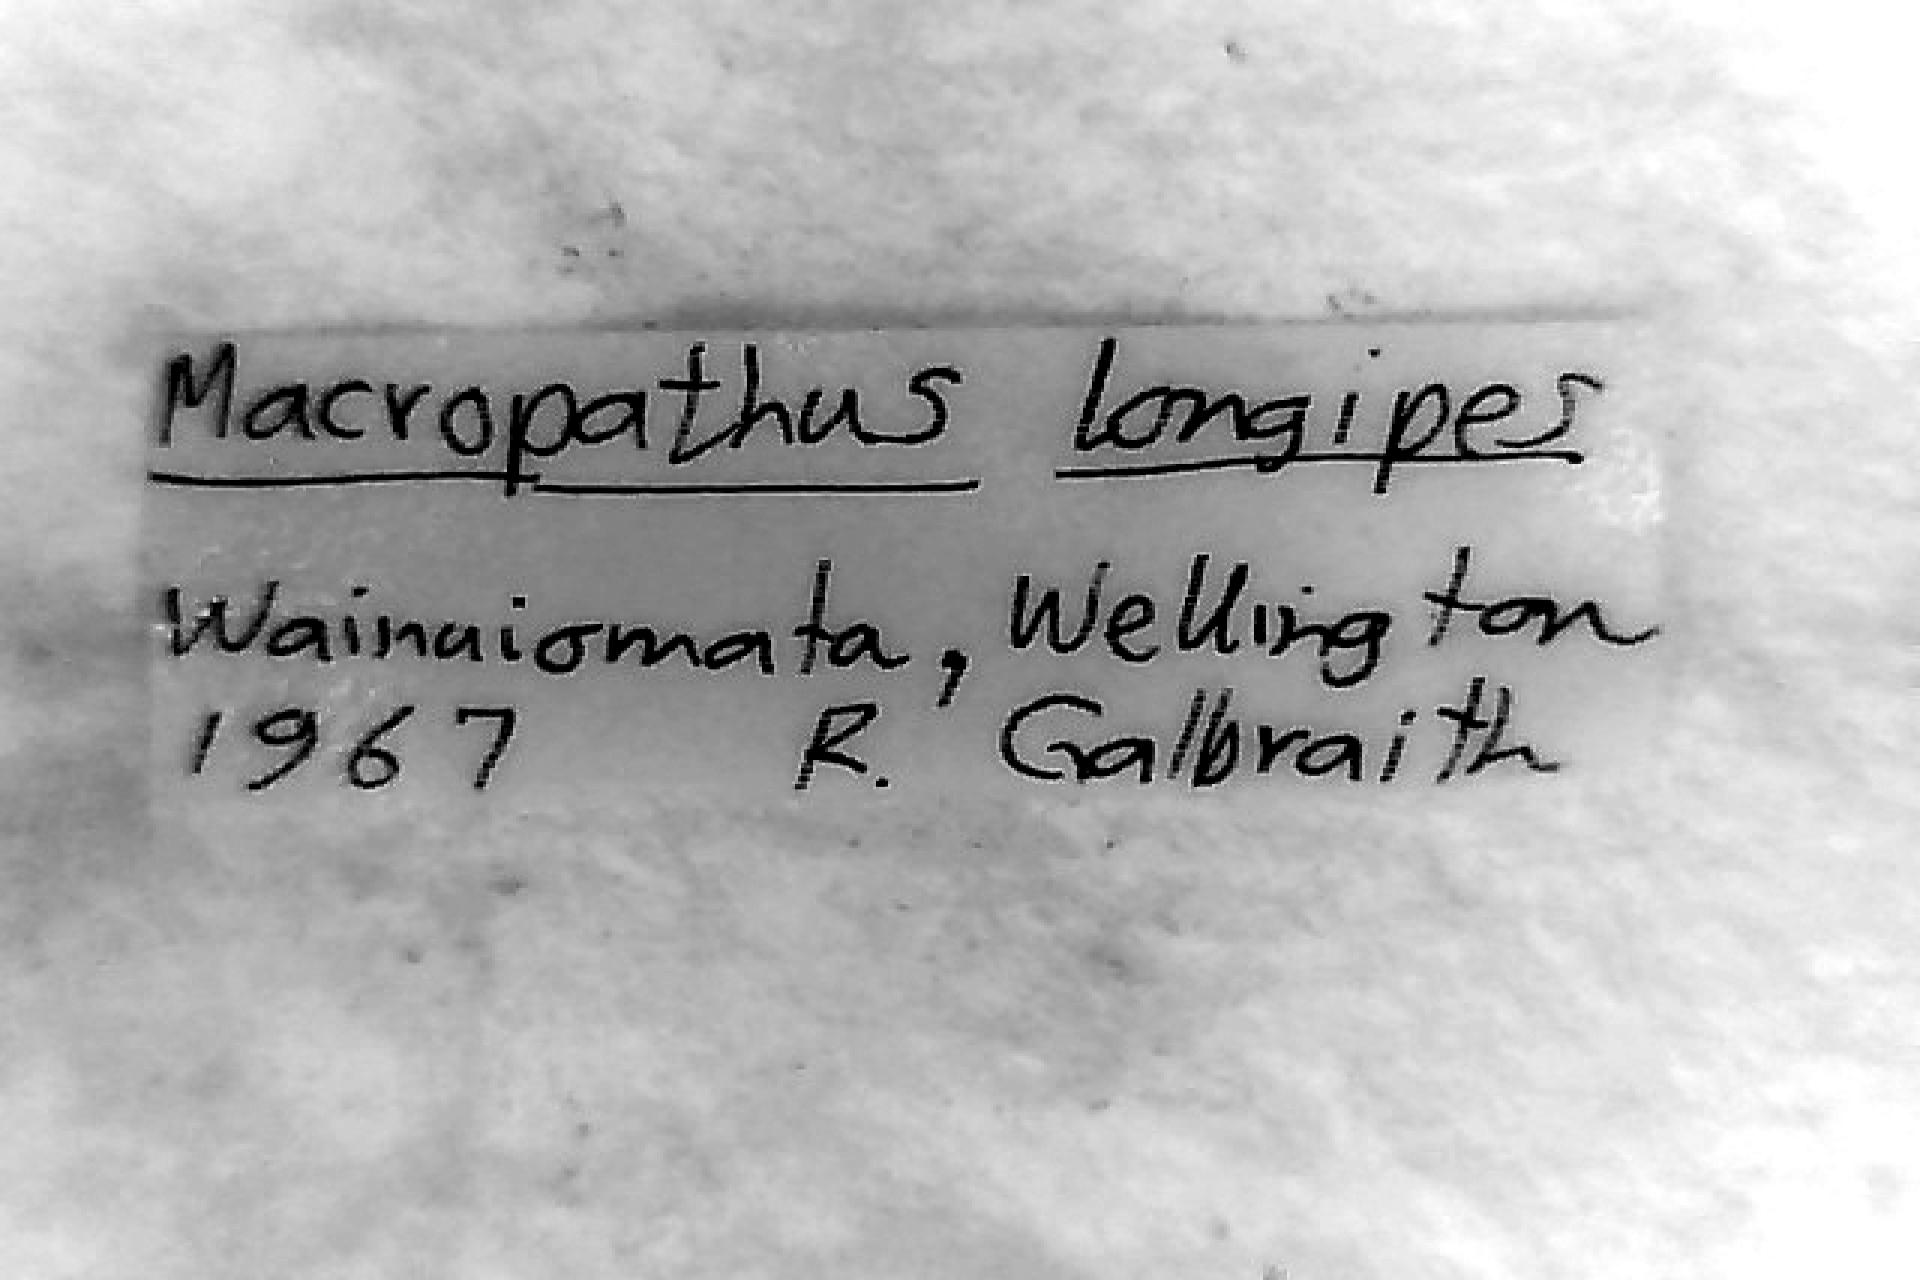hand_label: (146, 320, 1657, 814)
